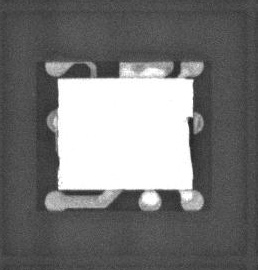DIE_BROKEN: (186, 114, 193, 189)
